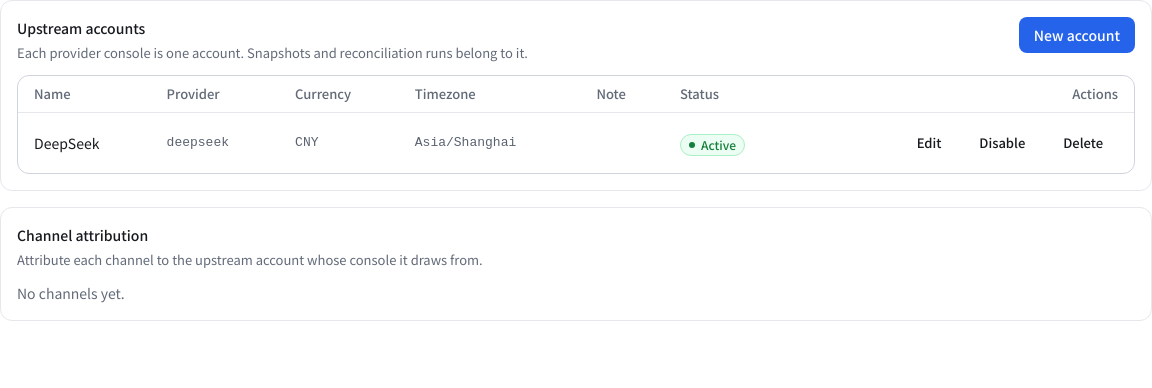
upstream accounts tab › refetches the account after a failed status toggle
记下点击时的重取次数：失败后必须再取一次。
Click the button "Disable": (1002, 143) [964,125,1040,161]
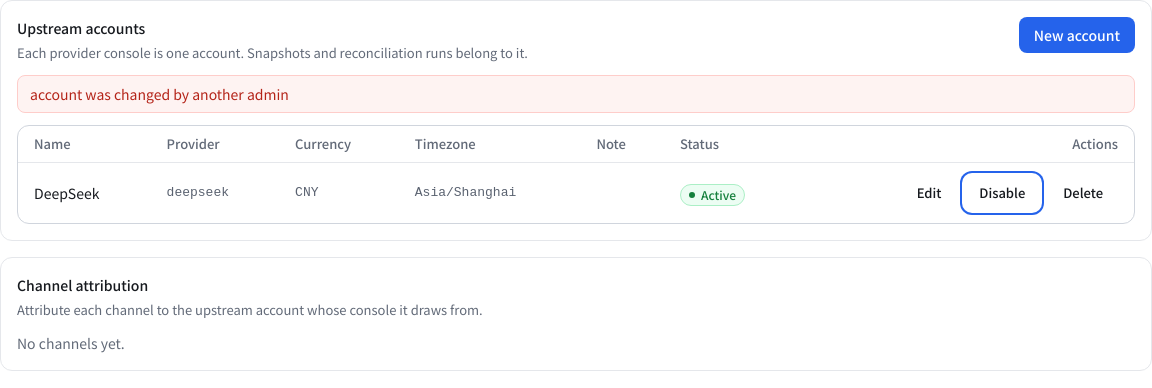
Now the text "account was changed by another admin" is shown, box [17,75,1135,113]
